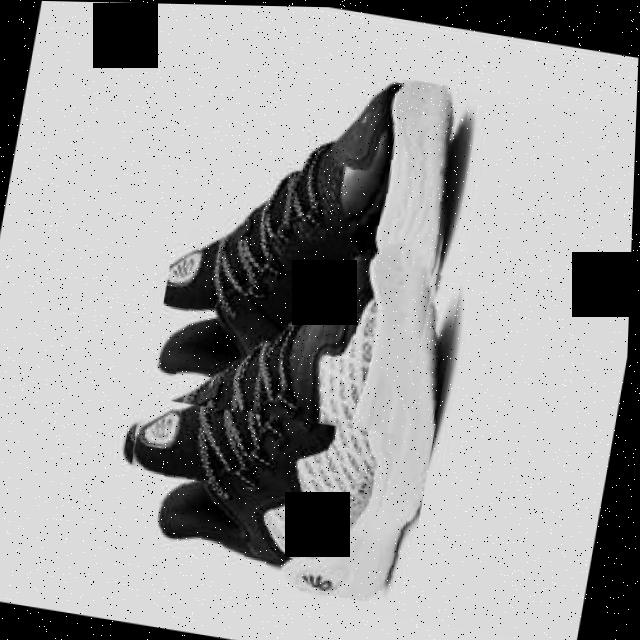shoe: (107, 216, 467, 607), (148, 45, 475, 440)
